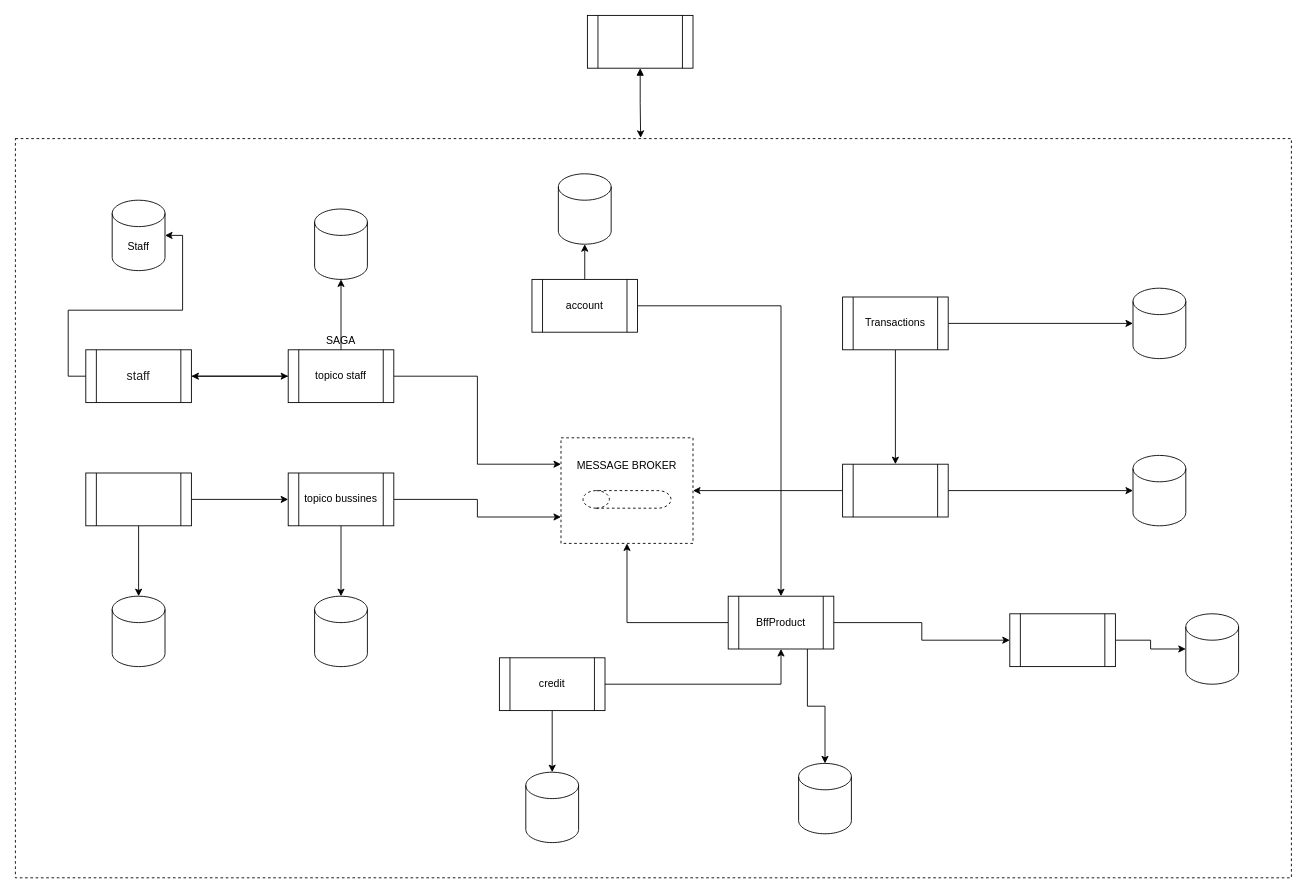
The diagram is 1307 pixels wide and 893 high, and some of its shapes have lost their labels. Here are the shapes that lost their labels. From the top down, the centre of each, then its label:
At (640,41): "CONFIG SERVER".
At (138,499): "Bussines".
At (895,490): "BffTransactions".
At (1062,640): "Product".
